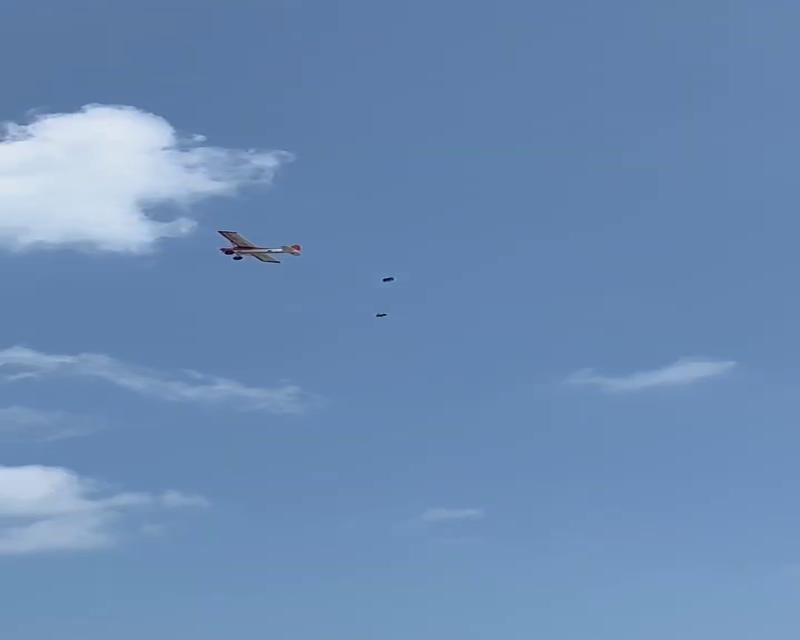UAV: (216, 228, 302, 264)
